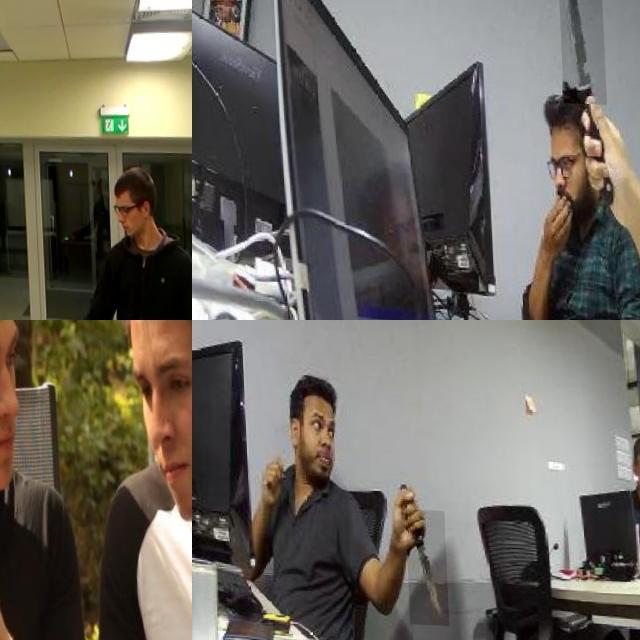-: (402, 506, 444, 623), (555, 0, 604, 100)
